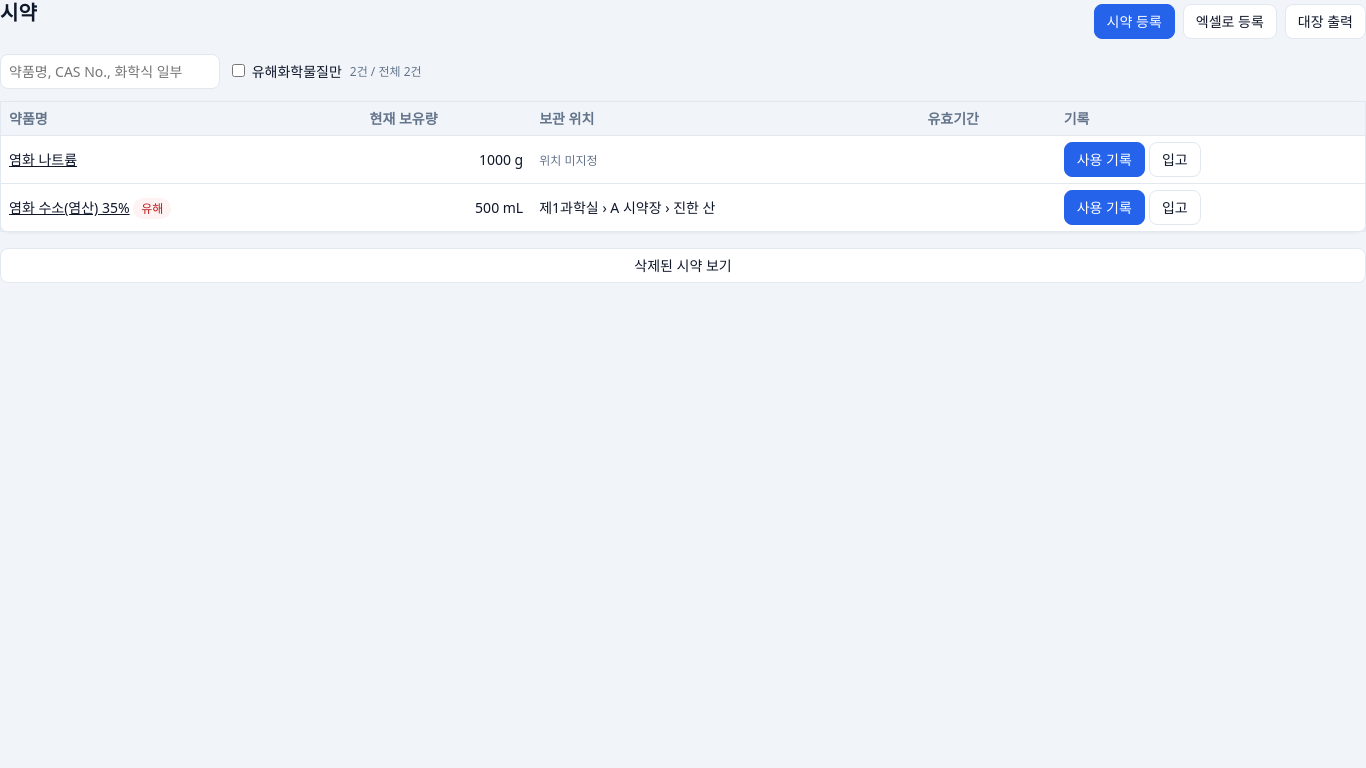
Scenario: usage record dialog › shows what will be left, and blocks using more than there is
The width and height of the screenshot is (1366, 768).
Click the button "사용 기록" in the row of "염화 수소(염산) 35%".
click(1104, 208)  # box [1064, 190, 1145, 225]
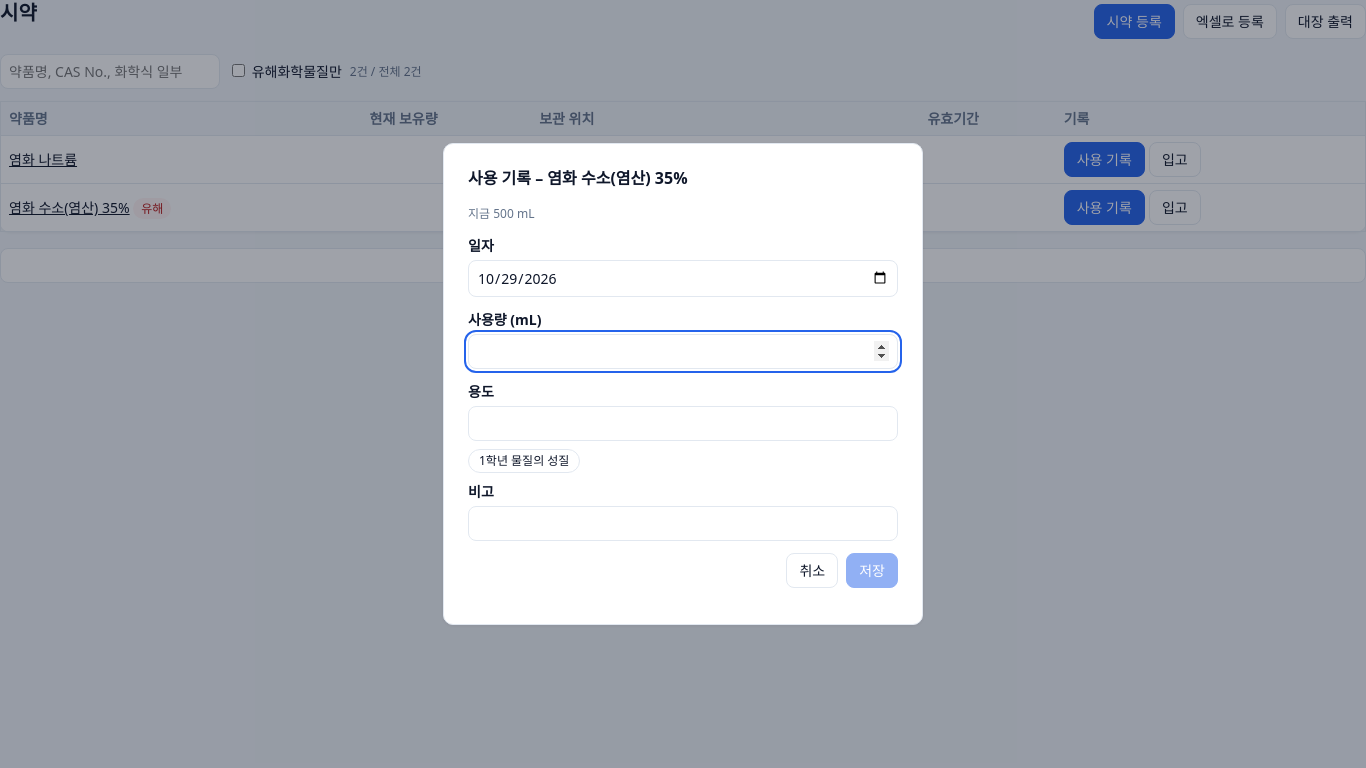
Now the text "지금 500 mL" is shown, box [468, 205, 534, 222]
Type "50" into the number field labelled "사용량 (mL)".
click(683, 351); type("50")  # box [468, 334, 898, 369]
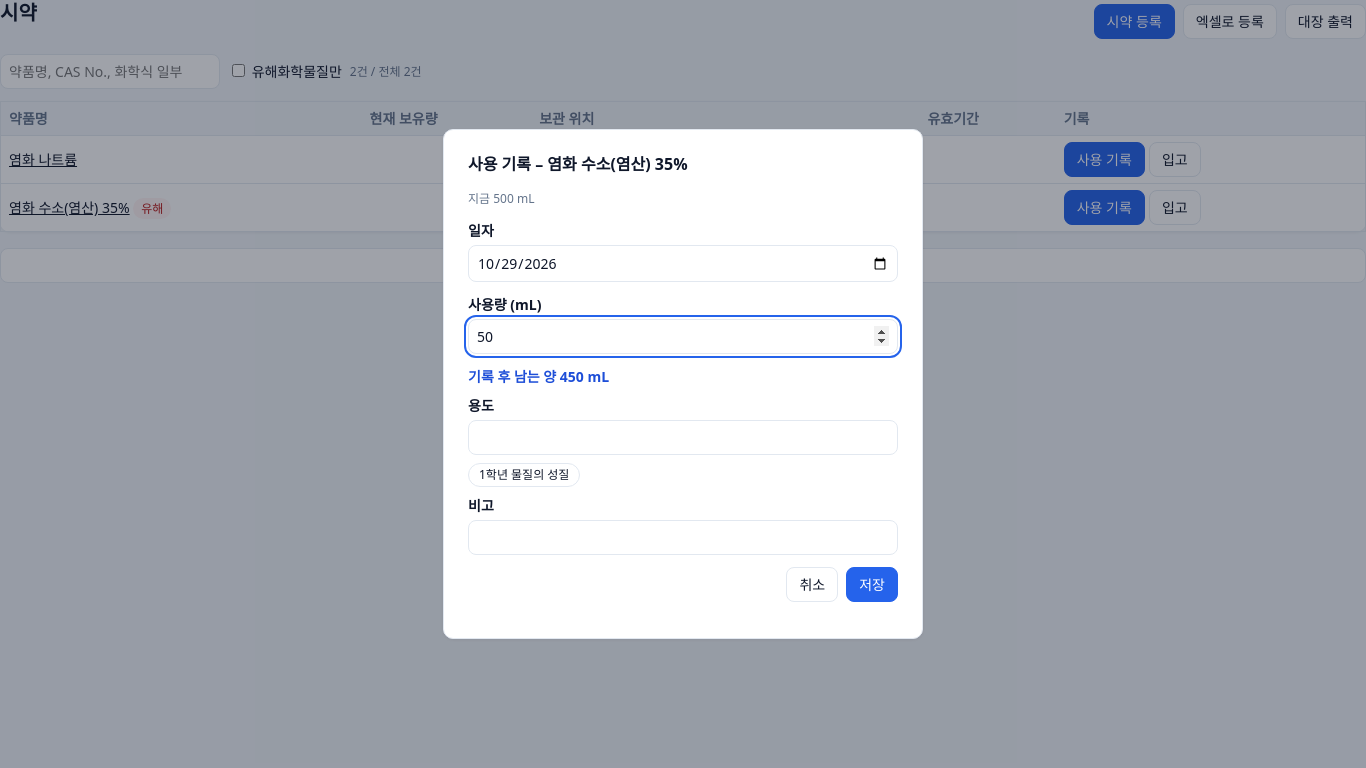
Now the text "기록 후 남는 양 450 mL" is shown, box [468, 367, 609, 386]
Clear the number field labelled "사용량 (mL)" at (683, 337), box [468, 319, 898, 354]
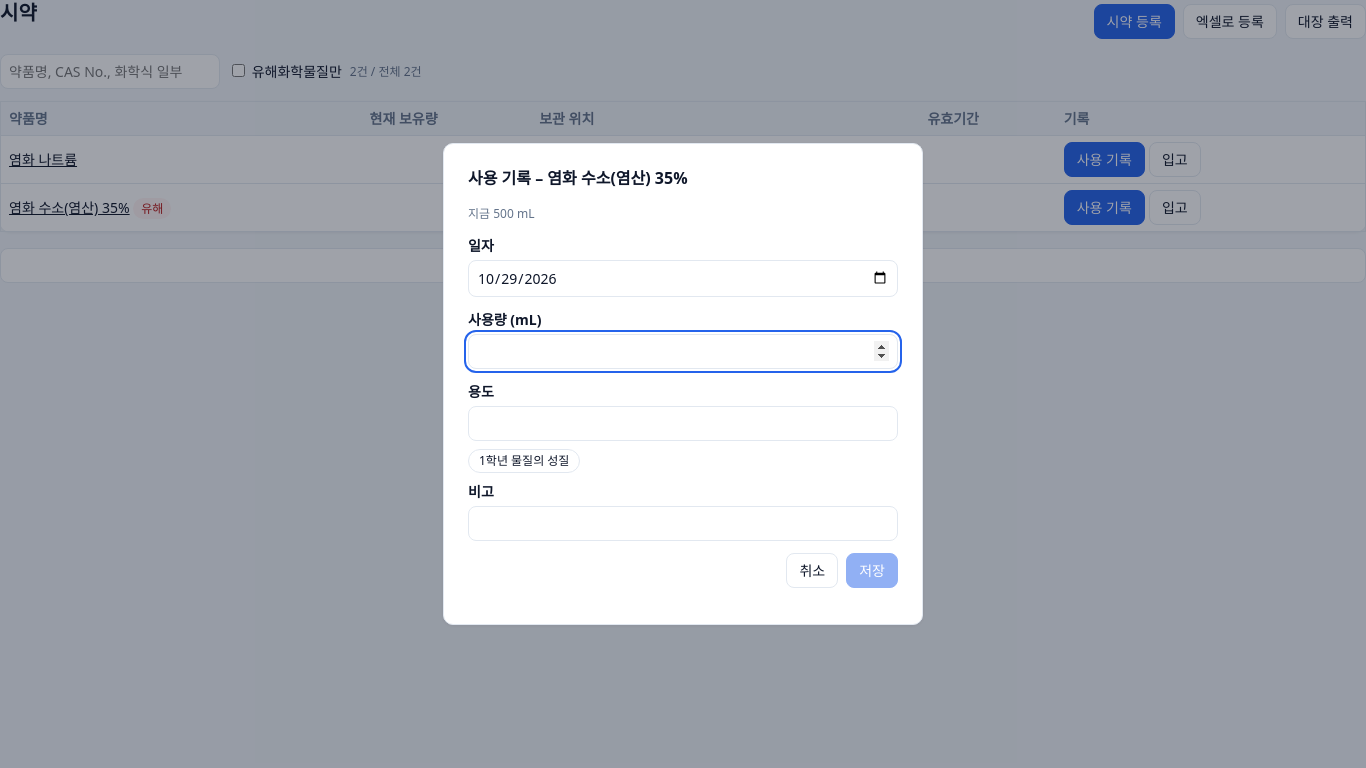
Type "600" into the number field labelled "사용량 (mL)".
click(683, 351); type("600")  # box [468, 334, 898, 369]
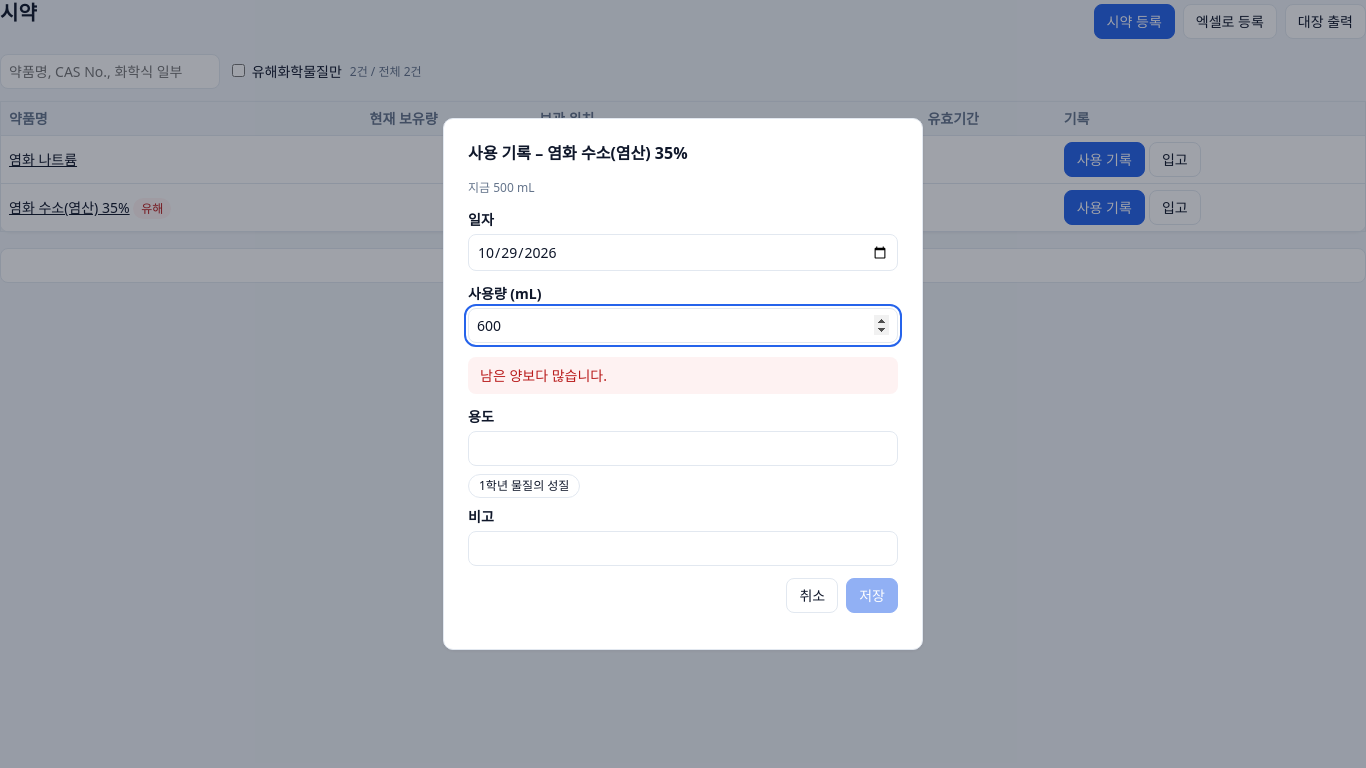
Now the button "저장" is disabled, box [846, 578, 898, 613]
Now the text "남은 양보다 많습니다." is shown, box [468, 357, 898, 394]
